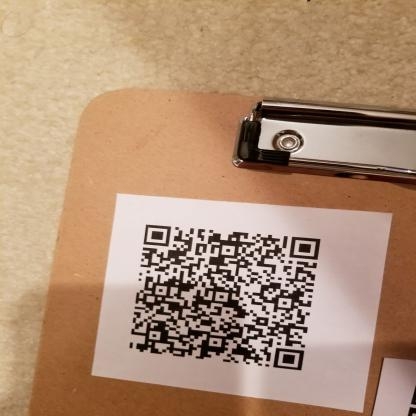qr: (126, 212, 323, 383)
